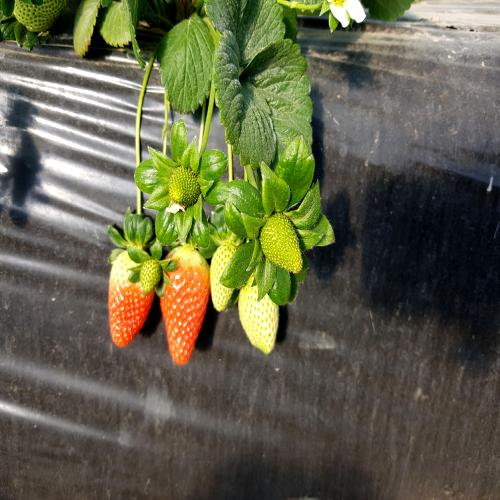partially-ripe: (105, 242, 160, 344)
ripe: (158, 236, 205, 355)
unripe: (236, 267, 283, 355), (256, 203, 305, 280), (211, 229, 244, 316)
